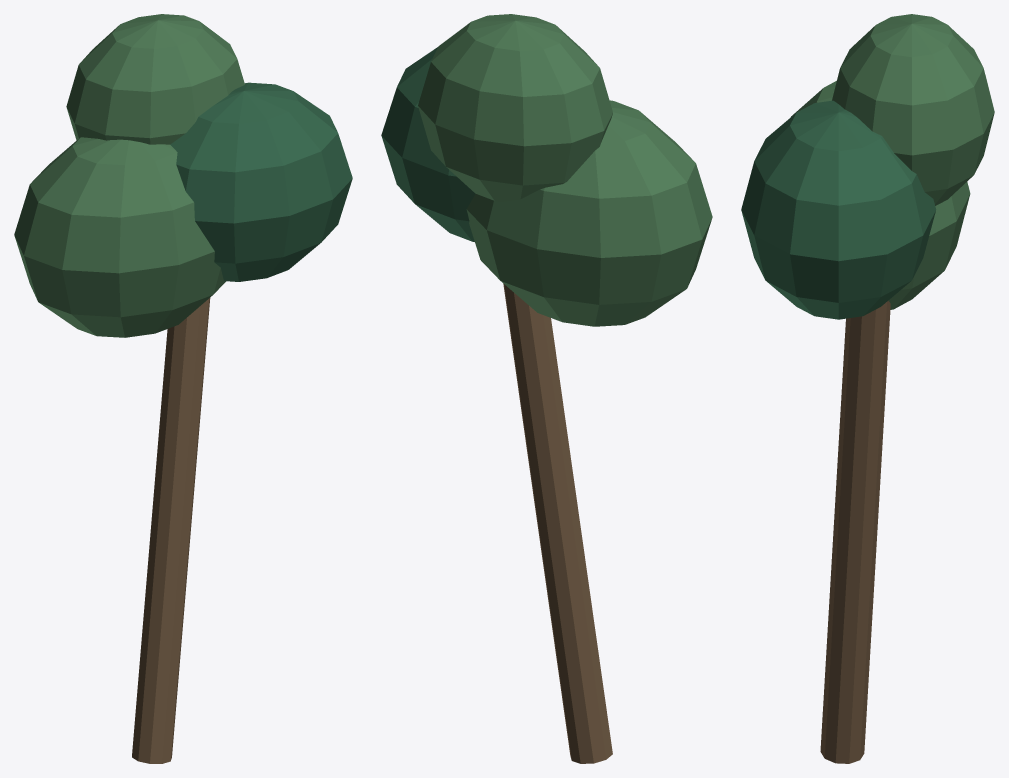
Rendered from norway-pine_lod0.glb.
3 renders of one model, left to right at view 1: azimuth 30°, elevation 25°; view 2: azimuth 150°, elevation 25°; view 3: azimuth 270°, elevation 25°, orthographic. The views are drawn at different scales.
Parts seen in each view (by area): view 1: RF_Pine_CrownA, RF_Pine_CrownB, RF_Pine_Trunk, RF_Pine_CrownC; view 2: RF_Pine_CrownA, RF_Pine_CrownC, RF_Pine_Trunk, RF_Pine_CrownB; view 3: RF_Pine_CrownB, RF_Pine_Trunk, RF_Pine_CrownC, RF_Pine_CrownA.
Boxes of the visible parts, box(x1,y1,x2,y2) form: RF_Pine_CrownA: box(14, 137, 225, 337); RF_Pine_CrownB: box(170, 82, 352, 281); RF_Pine_Trunk: box(132, 298, 210, 763); RF_Pine_CrownC: box(66, 14, 244, 144); RF_Pine_CrownA: box(466, 100, 712, 326); RF_Pine_CrownC: box(418, 14, 612, 201); RF_Pine_Trunk: box(503, 283, 612, 763); RF_Pine_CrownB: box(381, 47, 475, 241); RF_Pine_CrownB: box(741, 100, 936, 319); RF_Pine_Trunk: box(820, 300, 890, 763); RF_Pine_CrownC: box(832, 14, 994, 205); RF_Pine_CrownA: box(791, 80, 970, 309).
Size of the model in its own units: 7.7 by 17 by 5.2.
